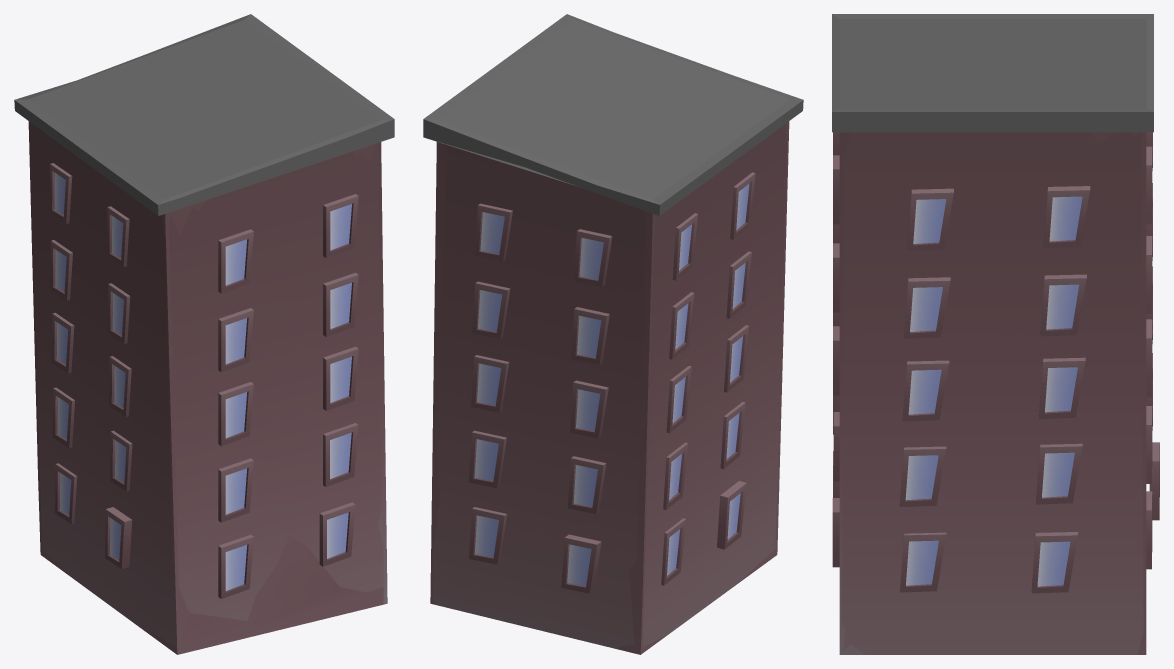
The model's file is SM_Building4.fbx.
3 renders of one model, left to right at view 1: azimuth 30°, elevation 25°; view 2: azimuth 150°, elevation 25°; view 3: azimuth 270°, elevation 25°, orthographic. The views are drawn at different scales.
Visible parts, largest first — view 1: Cube.009; view 2: Cube.009; view 3: Cube.009.
Boxes of the visible parts, x1,y1,x2,y2 form: Cube.009: [14, 14, 394, 654]; Cube.009: [423, 14, 803, 654]; Cube.009: [832, 14, 1159, 654].
Bounding box in the file's own units: 16.9 × 33.02 × 17.99.
